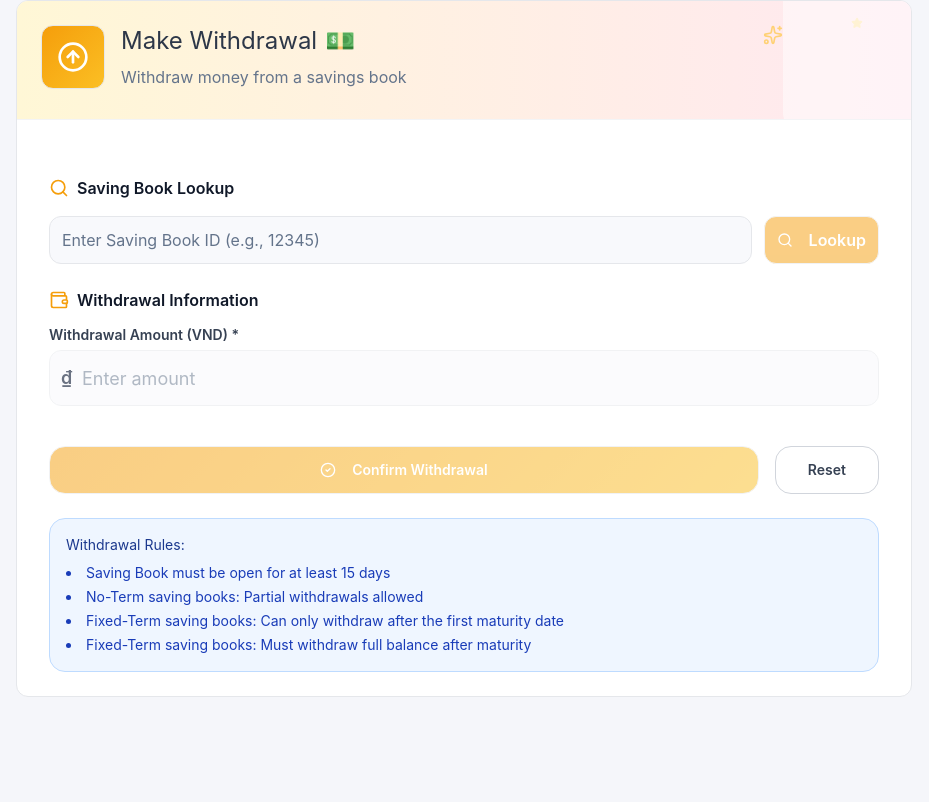
Test case: UC07 - Make Withdrawal › Render & Lookup › should display account details after successful lookup
This screenshot has width=929, height=802.
Expected: the button "Lookup" is shown, [764, 216, 879, 264]
Type "12345" into the field with placeholder "Enter Saving Book ID (e.g., 12345)" at (400, 240), box [49, 216, 752, 264]
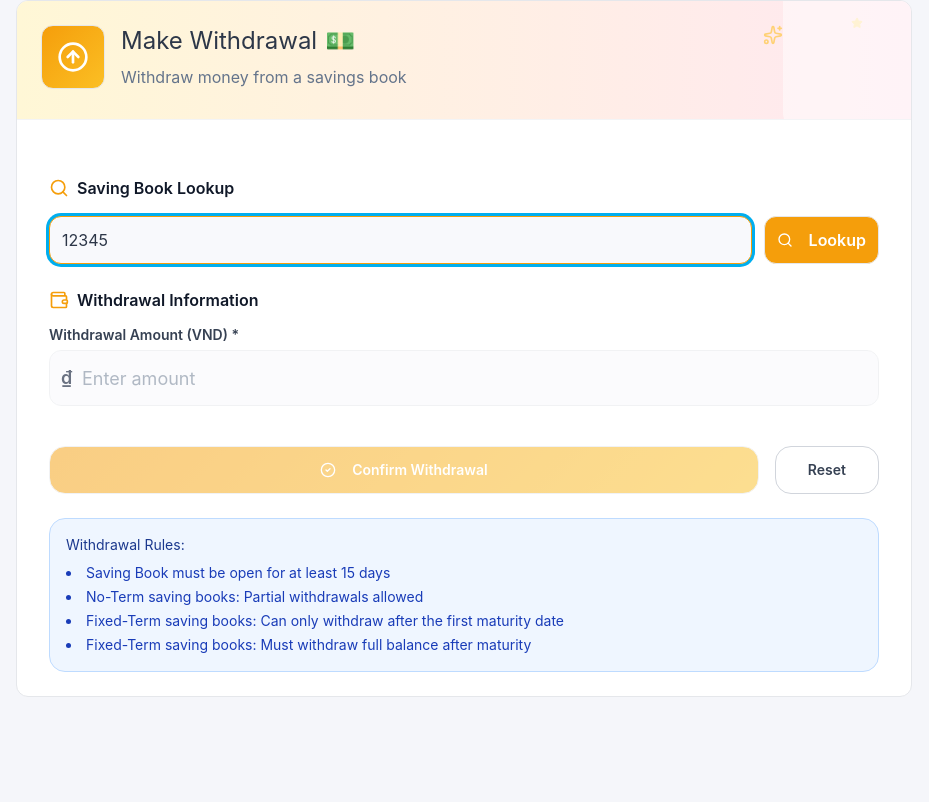
Click the button "Lookup" at (821, 240), box [764, 216, 879, 264]
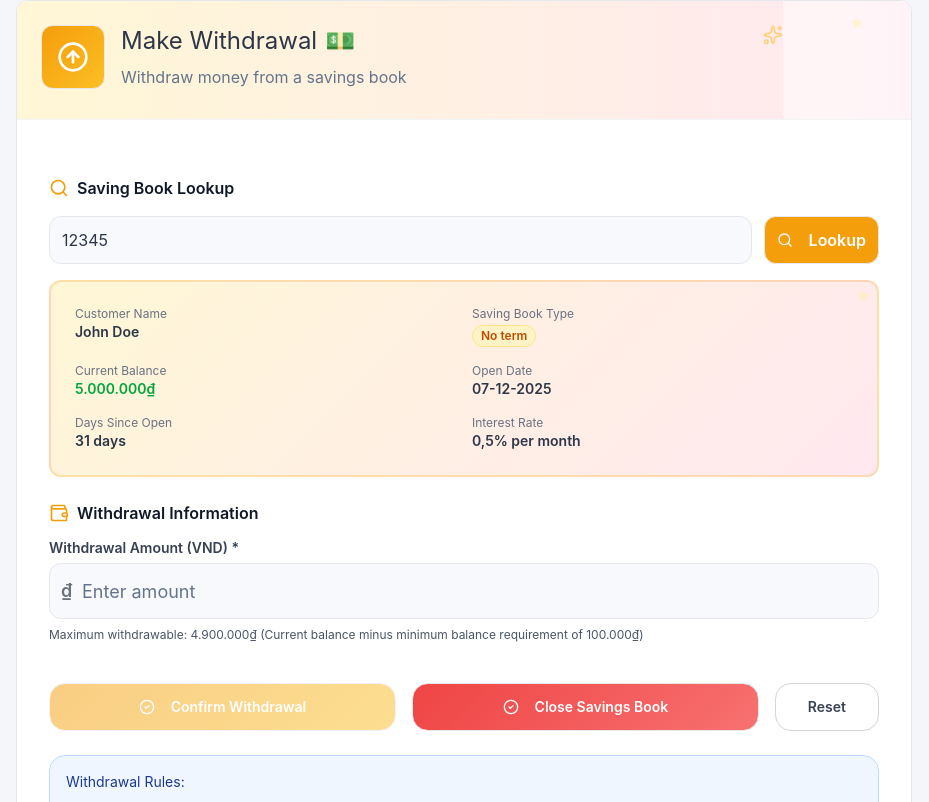
Result: the text "John Doe" is shown at [75, 323, 139, 340]
